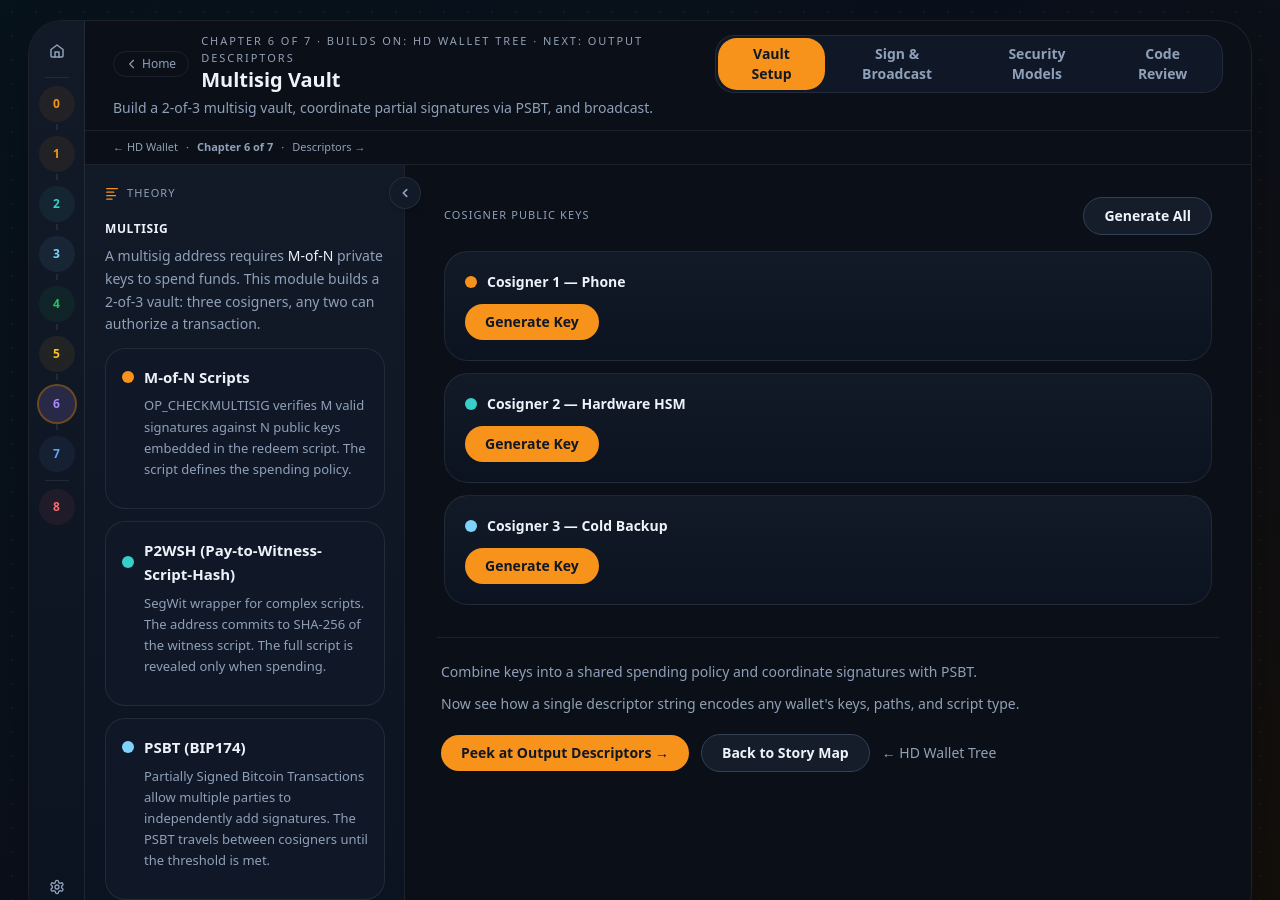
Test: MultisigVault › AC4: Generate button creates a cosigner key
Click the button "Generate Key" below "Phone": point(532, 322) [465,304,599,340]
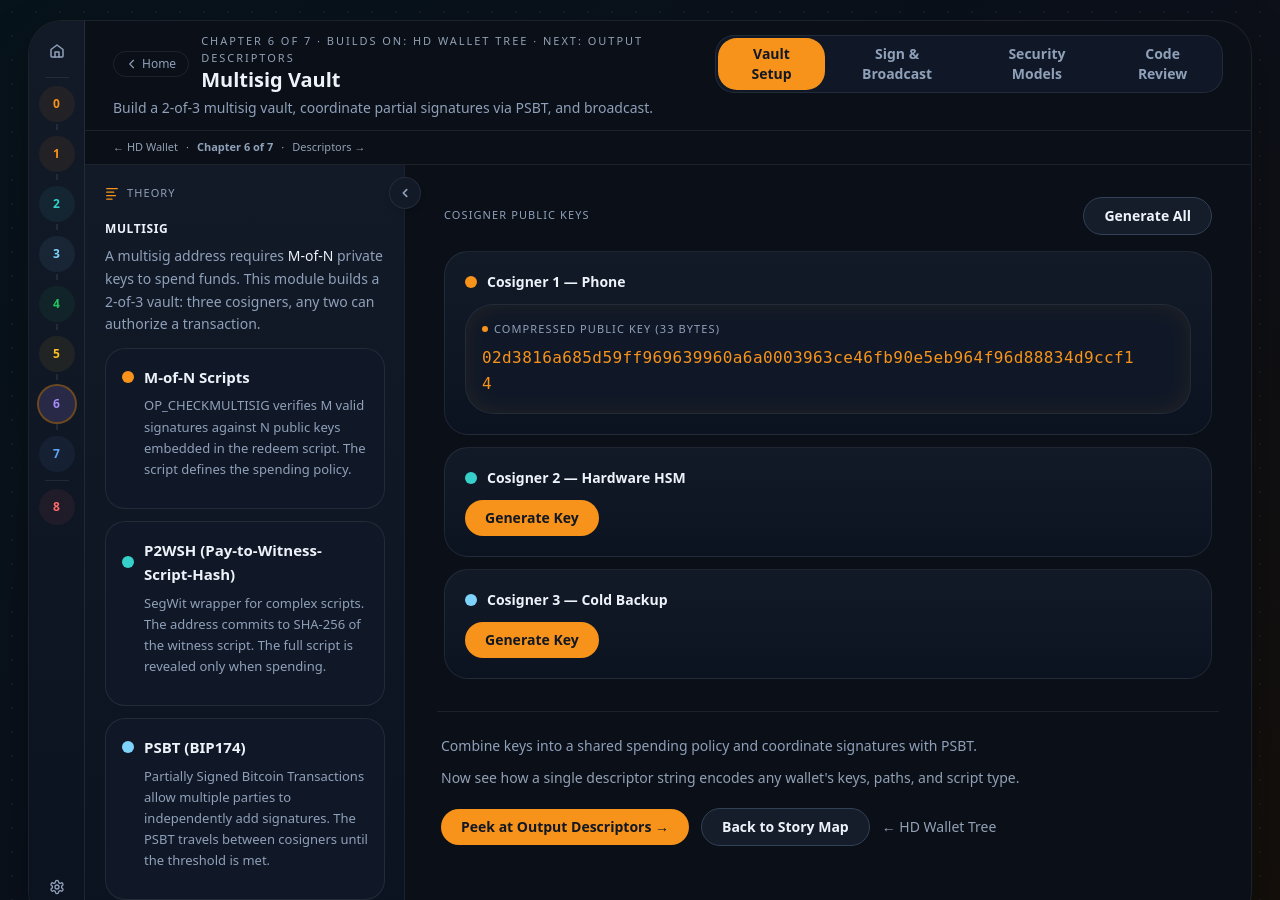
Result: the number of buttons "Generate Key" is 2 at [465,500,599,536]; [465,622,599,658]
Result: the text "Compressed public key (33 bytes)" is shown at [482,320,720,336]
